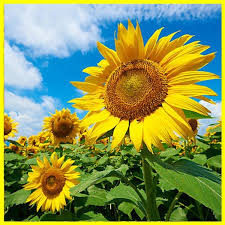flower: (6, 28, 218, 218)
sky: (7, 6, 88, 116)
